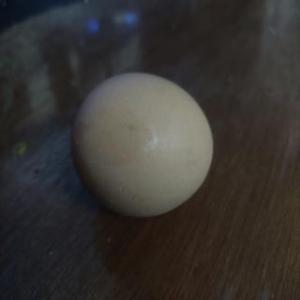egg: (68, 68, 214, 222)
